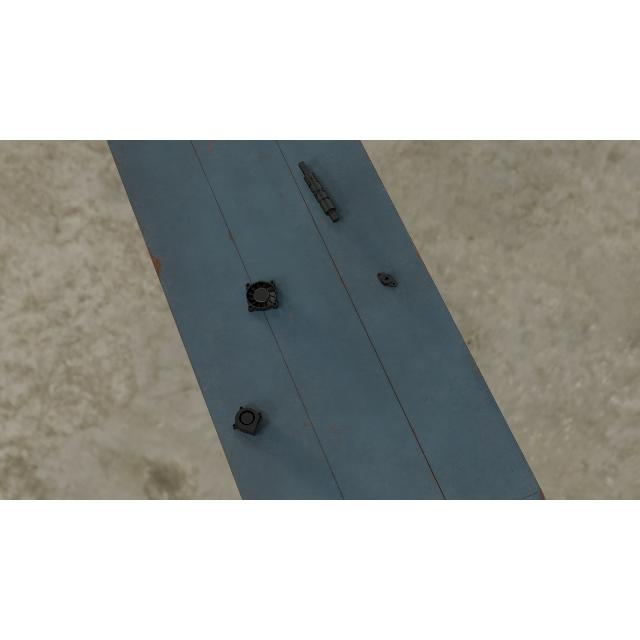Pieza1: (296, 158, 340, 226)
Pieza2: (374, 269, 400, 291)
Pieza3: (232, 404, 262, 436)
Pieza4: (245, 280, 279, 312)
